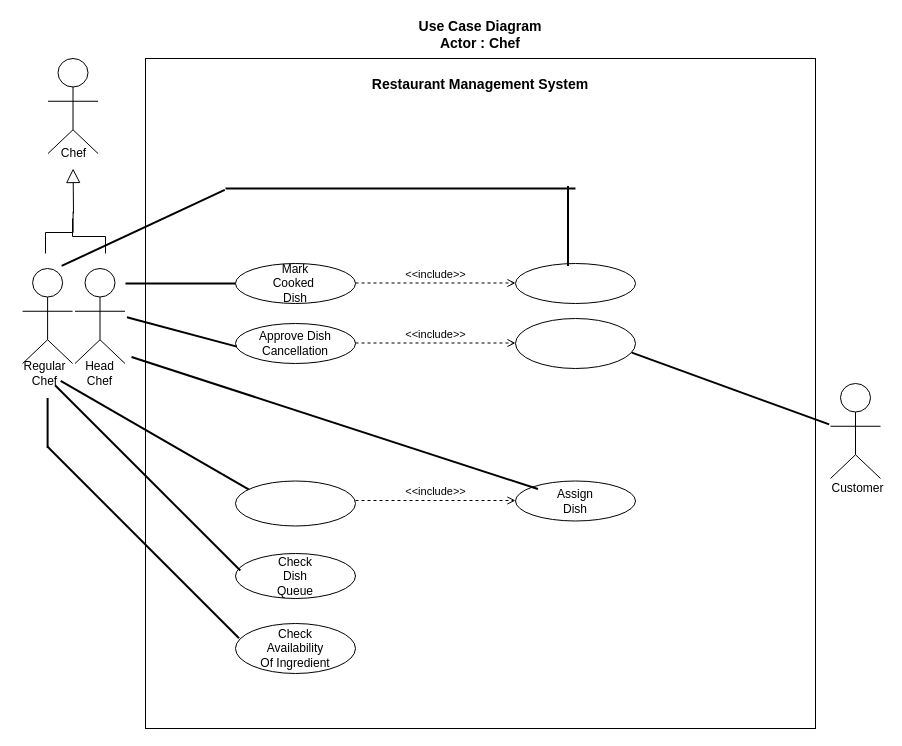
This 902x746 diagram has some shape labels left out. Here are the shapes that lost their labels. From the top down, the centre of each, then its label:
the point at 575,283: Complete Cooking
the point at 575,343: Request Cancel Order
the point at 295,503: Prepare Dish
